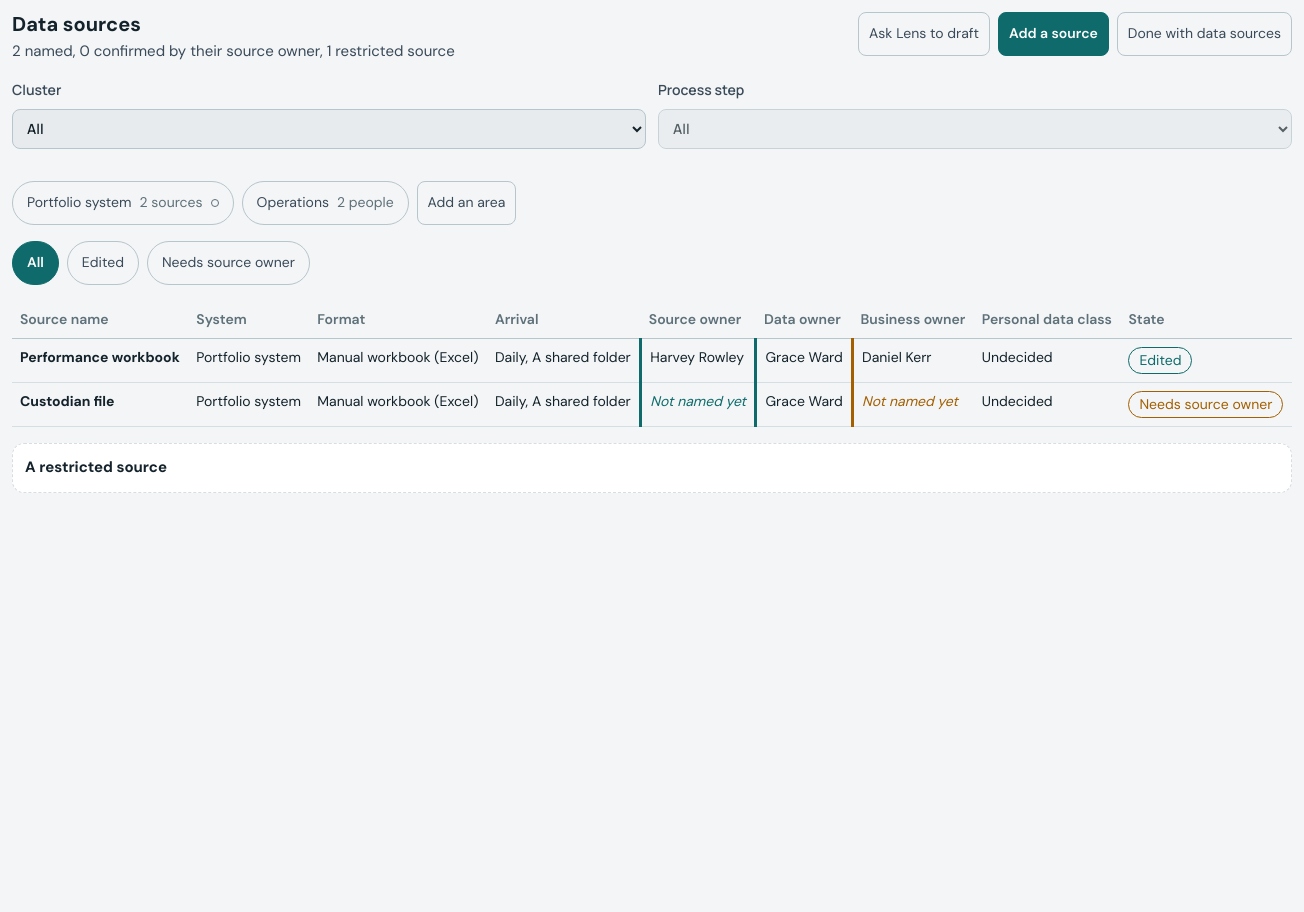
Test: an area drawer lists the sources here and who could say; a refused load shows the words
Click the button "Portfolio system 2 sources".
click(123, 203)  # box [12, 181, 234, 225]
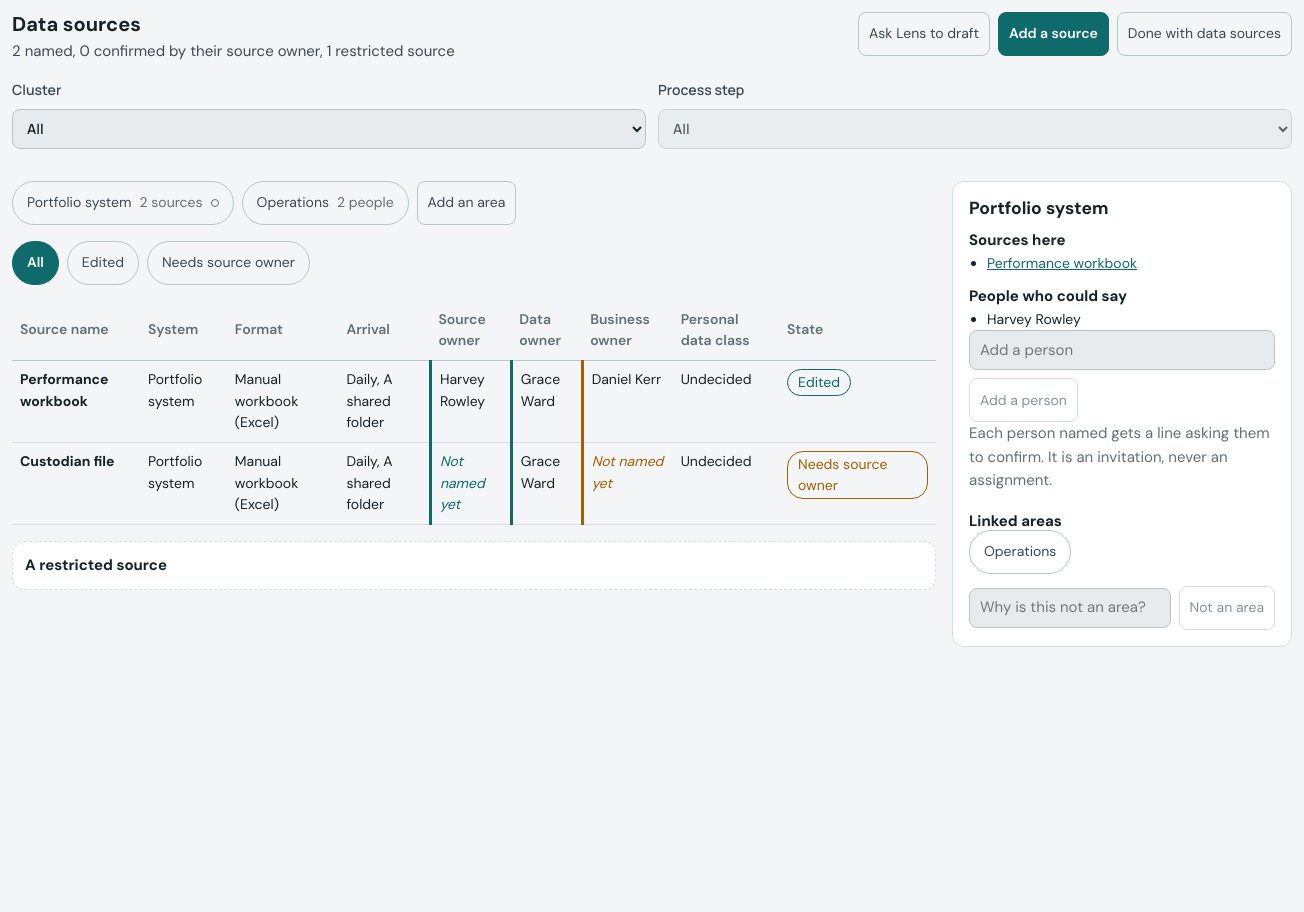
Check: the heading "Sources here" is shown, box [969, 230, 1066, 250]
Check: the heading "People who could say" is shown, box [969, 286, 1127, 306]
Check: the list item "Harvey Rowley" is shown, box [987, 310, 1081, 328]
